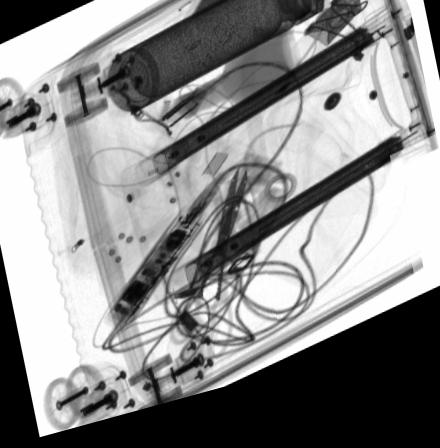Powerbank: (181, 0, 276, 36)
Scissors: (169, 178, 249, 369)
